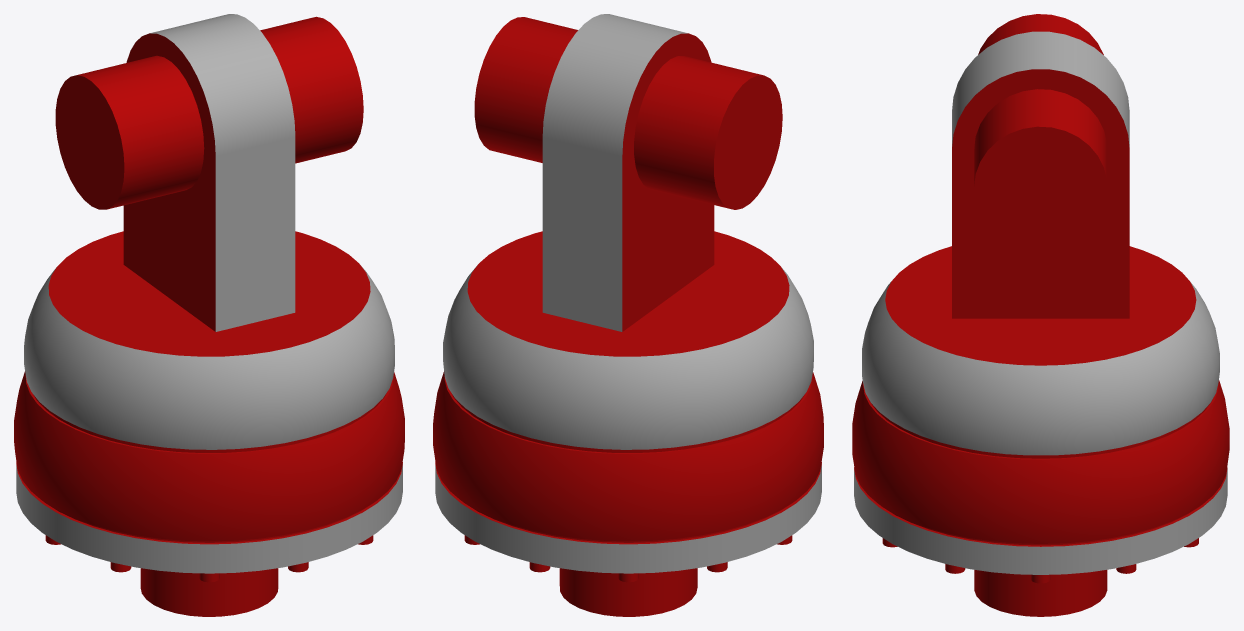
3 renders of one model, left to right at view 1: azimuth 30°, elevation 25°; view 2: azimuth 150°, elevation 25°; view 3: azimuth 270°, elevation 25°, orthographic. The views are drawn at different scales.
Parts seen in each view (by area): view 1: Solid1; view 2: Solid1; view 3: Solid1.
Boxes of the visible parts, <box> form: Solid1: <box>14,14,404,616</box>; Solid1: <box>433,14,823,616</box>; Solid1: <box>852,14,1229,616</box>.
Bounding box in the file's own units: 0.0849 × 0.1336 × 0.0849.
